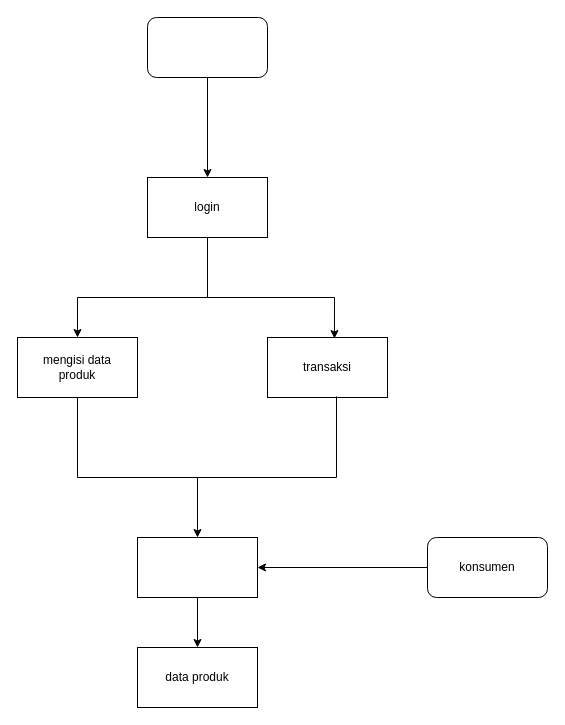
This 565x725 diagram has some shape labels left out. Here are the shapes that lost their labels. From the top down, the box of each, then its label:
(146, 16, 268, 78): jaga piket
(136, 536, 258, 598): melihat data
